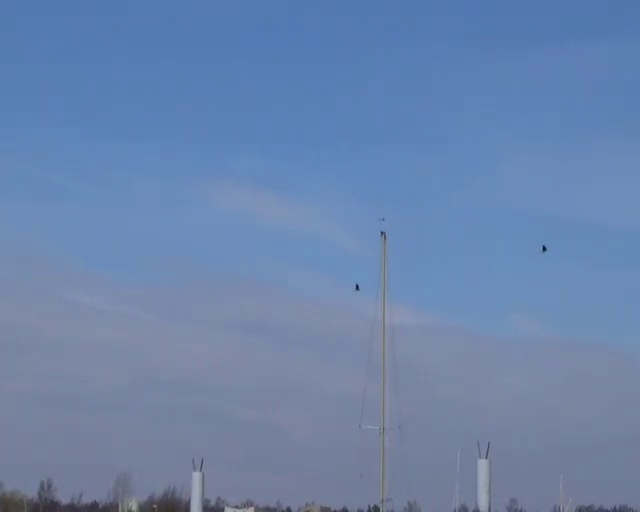BIRD: (354, 283, 360, 291)
